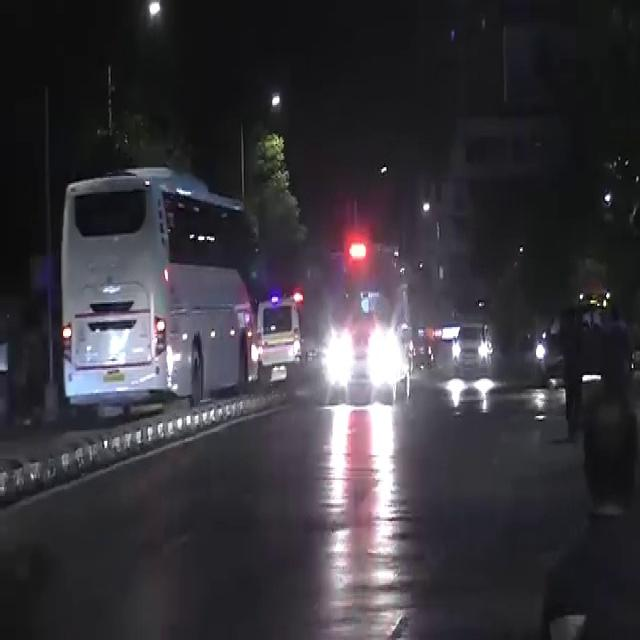ambulance: (308, 246, 427, 402)
